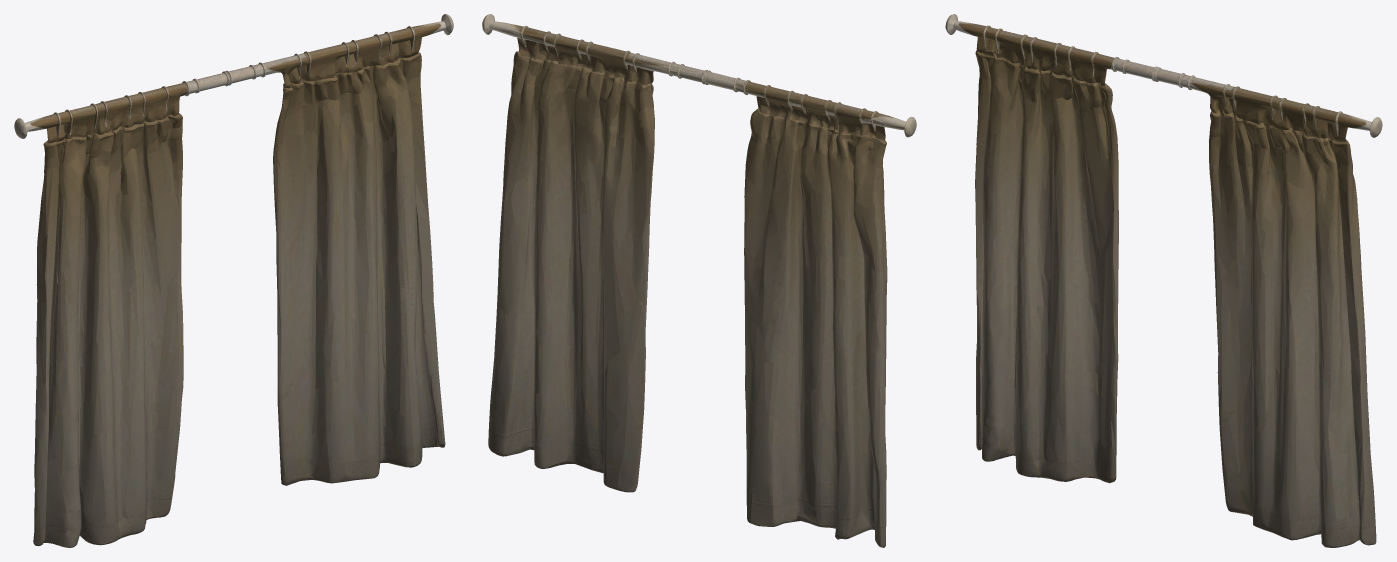
File: tenda_binario_B.glb
The picture shows the model from 3 angles, left to right: view 1: azimuth 30°, elevation 25°; view 2: azimuth 150°, elevation 25°; view 3: azimuth 330°, elevation 25°; orthographic projection.
Visible parts, largest first — view 1: Mesh_0; view 2: Mesh_0; view 3: Mesh_0.
Part boxes in pixels (left/top/right/bottom): Mesh_0: left=14, top=14, right=453, bottom=547; Mesh_0: left=482, top=14, right=916, bottom=547; Mesh_0: left=945, top=14, right=1382, bottom=547.
Size of the model in its own units: 2 by 1.94 by 0.1679.
1 material, 1 textured.
